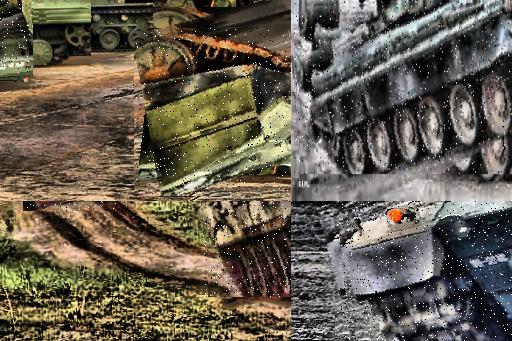tanks: (295, 2, 512, 175), (136, 29, 292, 196), (340, 202, 512, 341), (204, 202, 292, 298), (1, 1, 92, 66), (1, 1, 33, 78), (24, 202, 67, 212)
